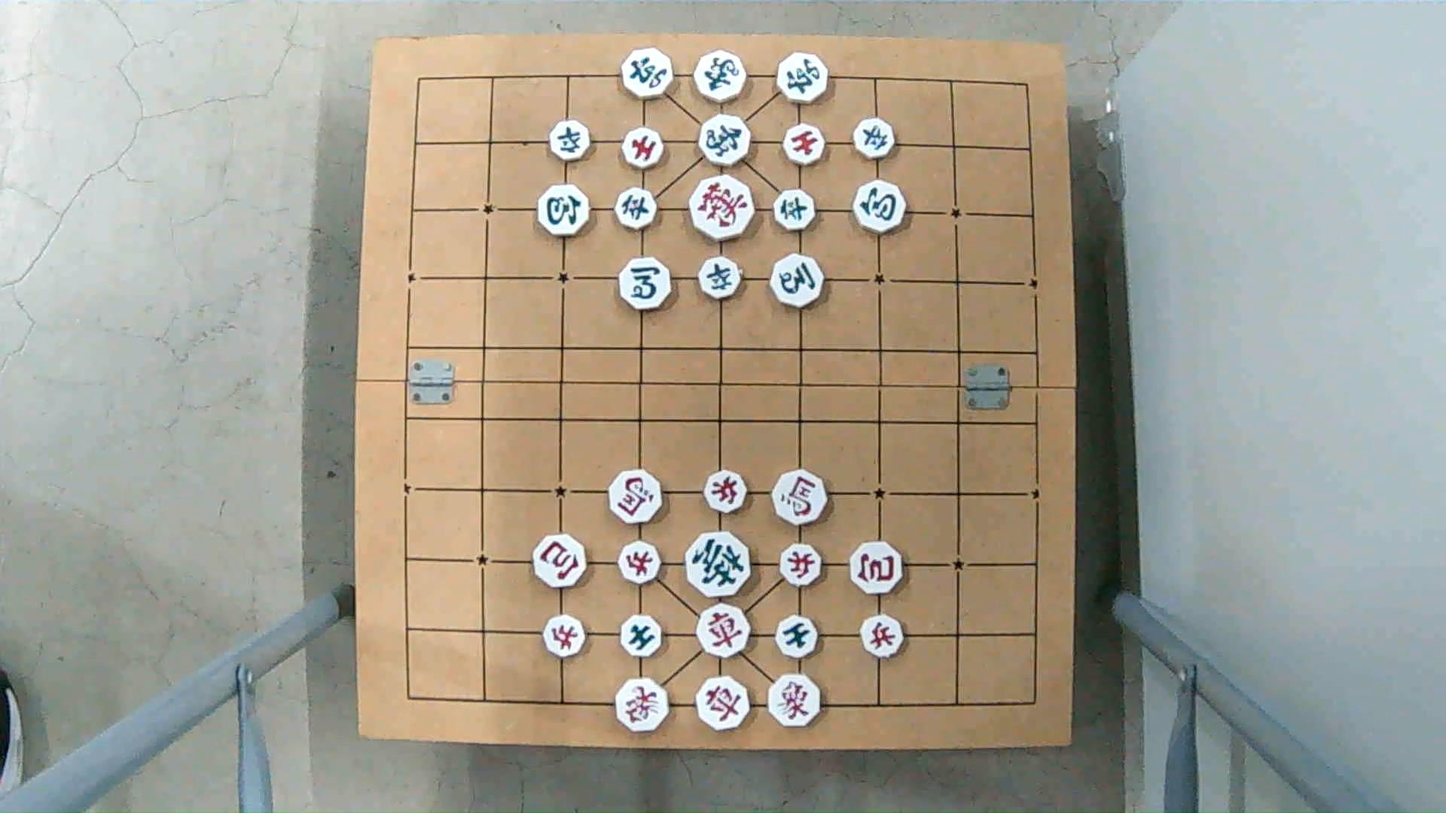cha_green: (773, 55, 831, 102), (617, 48, 676, 94)
cha_red: (694, 678, 755, 727), (694, 607, 755, 656)
jol_green: (614, 190, 663, 230), (773, 190, 818, 231), (697, 257, 743, 297), (851, 120, 899, 158), (547, 123, 593, 160)
jol_red: (613, 543, 664, 581), (856, 617, 905, 656), (541, 617, 590, 655), (706, 471, 746, 512), (779, 543, 820, 583)
ma_green: (615, 260, 676, 309), (770, 255, 827, 305)
ma_red: (768, 470, 829, 525), (607, 472, 663, 519)
po_green: (855, 178, 906, 235), (534, 185, 590, 233)
po_red: (532, 538, 589, 586), (850, 544, 901, 592)
sa_green: (774, 614, 821, 659), (617, 617, 665, 656)
sa_red: (781, 124, 826, 166), (620, 126, 667, 166)
sang_green: (697, 117, 756, 164), (690, 56, 750, 102)
sang_red: (611, 681, 672, 731), (764, 678, 824, 727)
wang_green: (685, 536, 747, 594)
wang_red: (688, 178, 757, 236)
